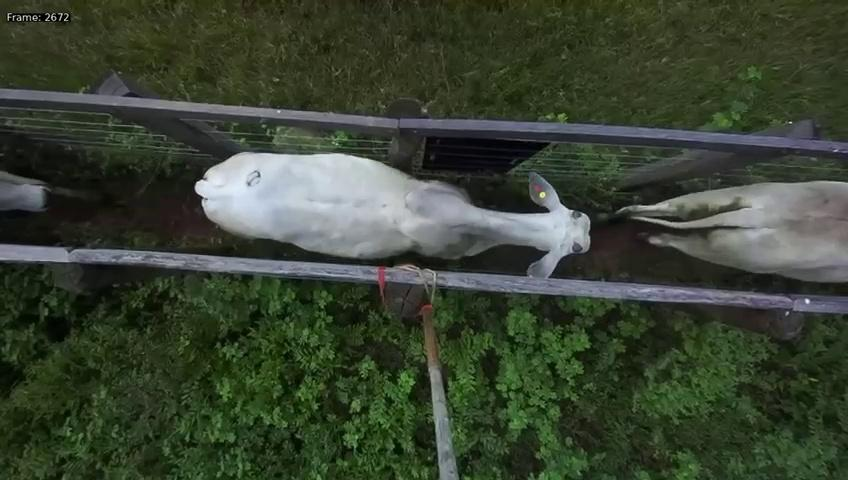cattle: (193, 125, 591, 276)
